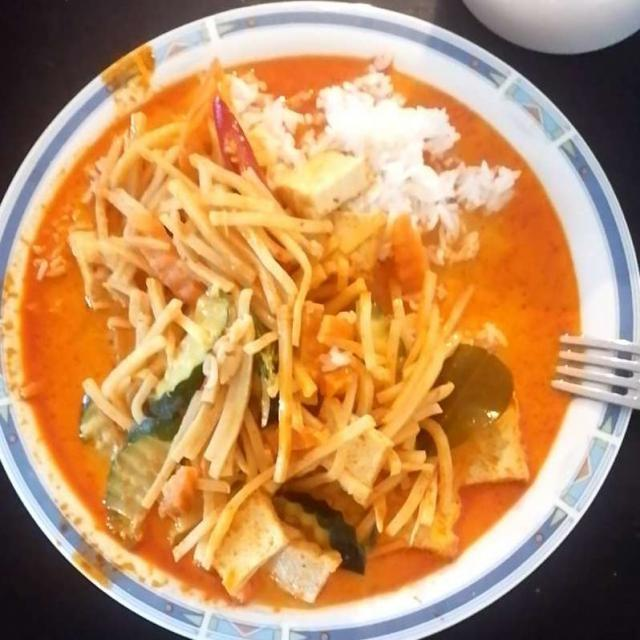chicken-curry: (30, 85, 577, 571)
rice: (223, 69, 530, 266)
tofu: (209, 146, 534, 598)
vegetables: (83, 140, 435, 552)
